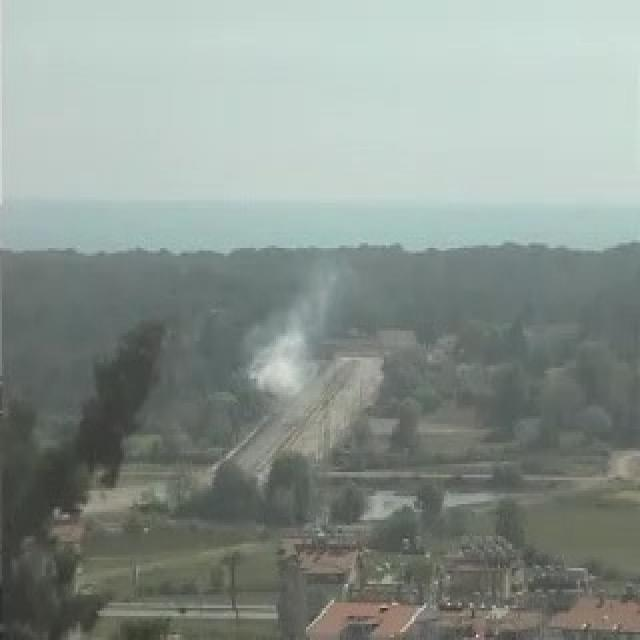smoke: (243, 277, 334, 400)
